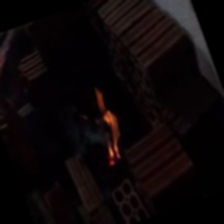fire: (77, 79, 143, 175)
